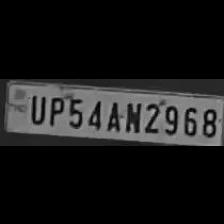2: (140, 99, 160, 134)
4: (84, 95, 104, 129)
5: (64, 93, 84, 127)
6: (180, 102, 198, 136)
8: (198, 102, 218, 138)
9: (160, 100, 180, 134)
A: (104, 97, 122, 131)
N: (122, 97, 140, 132)
P: (44, 92, 64, 126)
U: (26, 90, 46, 124)
